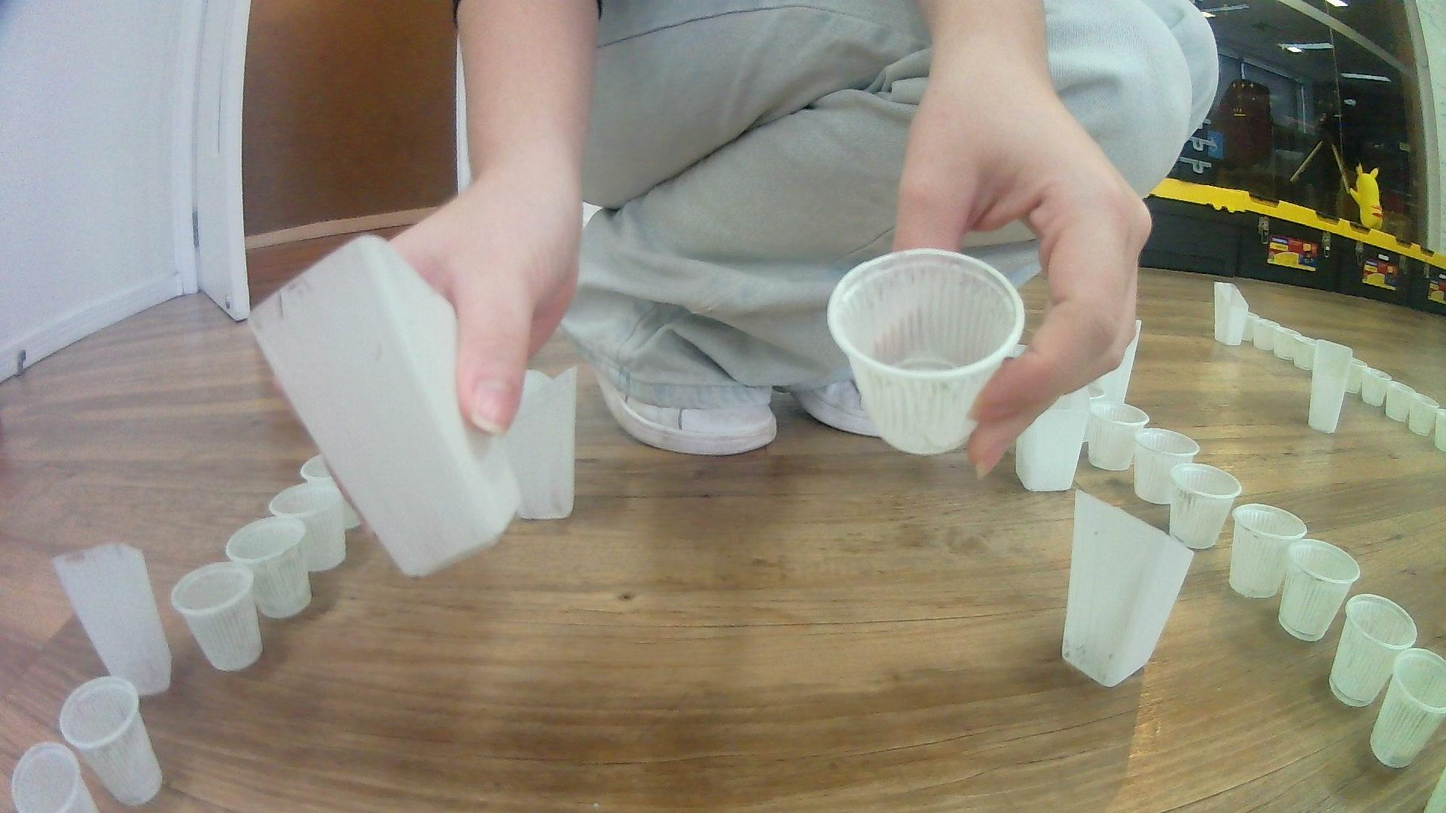erva_daninha: (250, 230, 522, 580), (1060, 486, 1197, 691), (50, 543, 172, 697), (487, 364, 578, 522), (1012, 394, 1090, 494), (1086, 320, 1142, 408), (1307, 338, 1354, 434), (1213, 282, 1250, 346)
planta: (824, 247, 1028, 457), (59, 675, 163, 807), (169, 560, 264, 673), (1329, 592, 1419, 708), (1369, 647, 1446, 769), (224, 516, 313, 621), (1277, 537, 1362, 643), (1229, 502, 1308, 599), (268, 482, 348, 572), (1168, 462, 1243, 550), (11, 741, 102, 813), (1131, 427, 1203, 507), (1085, 401, 1152, 473), (298, 457, 361, 531), (1408, 394, 1441, 439), (1360, 367, 1393, 409), (1384, 381, 1416, 423), (1344, 357, 1368, 394), (1292, 337, 1316, 371), (1250, 318, 1274, 351), (1271, 328, 1295, 361), (1434, 408, 1446, 452)
